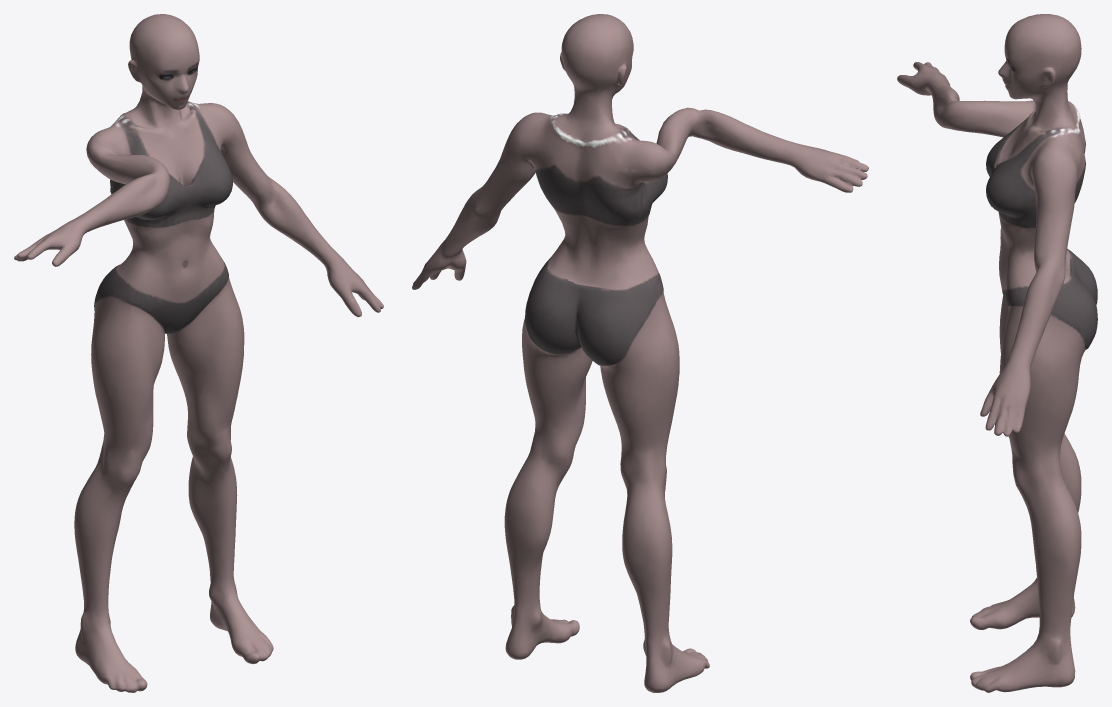
The model's file is 20-UpperArmL-90-child90-twist0-baseline.glb.
3 renders of one model, left to right at view 1: azimuth 30°, elevation 25°; view 2: azimuth 150°, elevation 25°; view 3: azimuth 270°, elevation 25°, orthographic. The views are drawn at different scales.
Visible parts, largest first — view 1: baseline; view 2: baseline; view 3: baseline.
Boxes of the visible parts, x1,y1,x2,y2 form: baseline: (14, 14, 383, 692); baseline: (412, 14, 868, 692); baseline: (897, 14, 1097, 692).
Size of the model in its own units: 0.6636 by 1 by 0.2855.
1 material, 1 textured.
